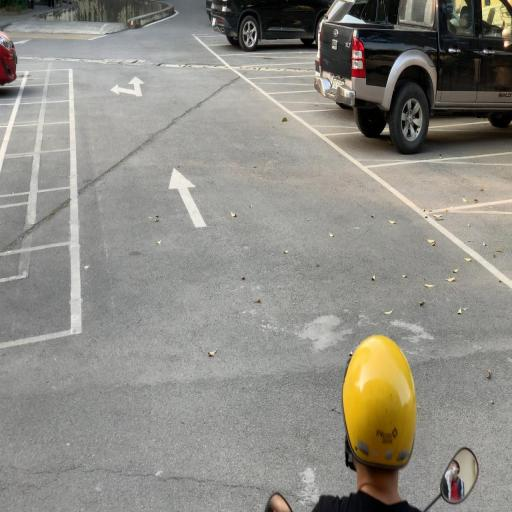with helmet: (340, 330, 418, 472)
